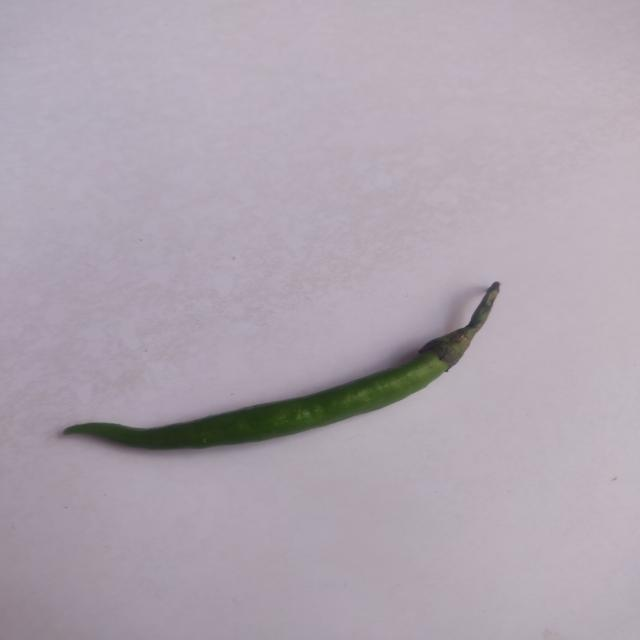Green Chilly: (43, 268, 538, 478)
